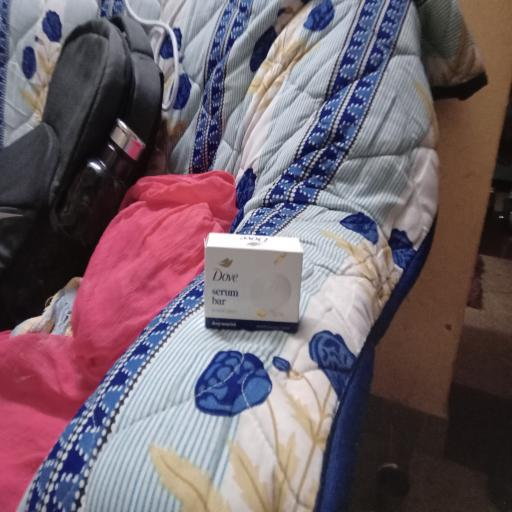Dove`1: (203, 227, 309, 334)
